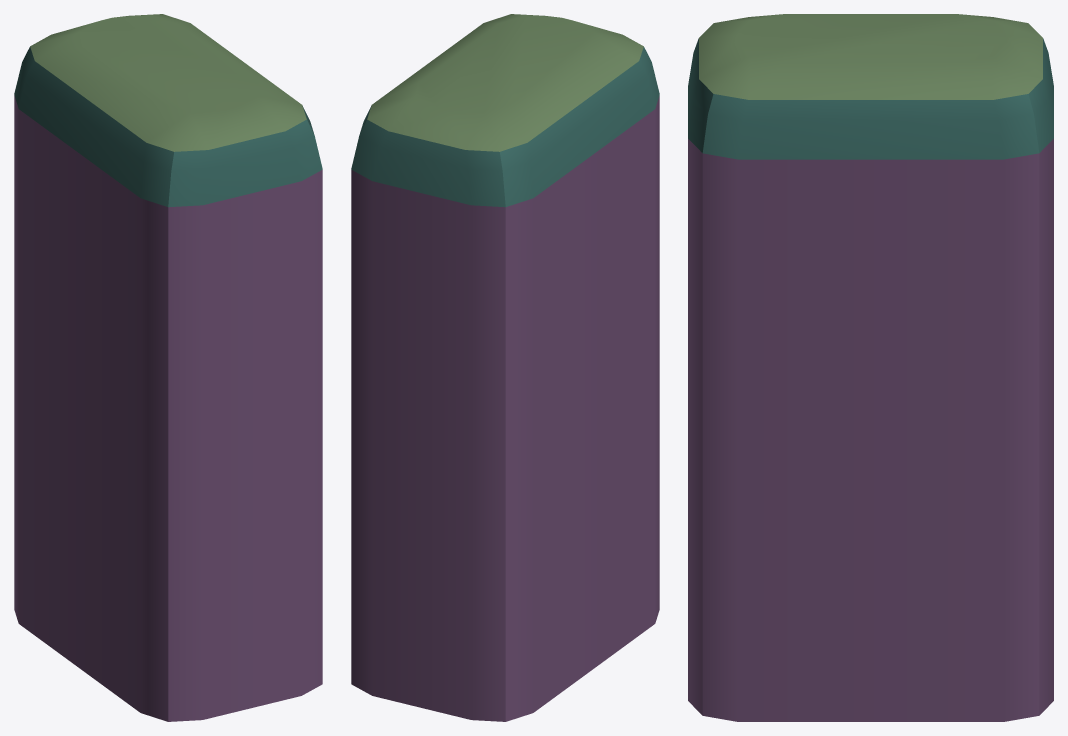
Rendered from Waterfall_PLatfomr.fbx.
The picture shows the model from 3 angles, left to right: view 1: azimuth 30°, elevation 25°; view 2: azimuth 150°, elevation 25°; view 3: azimuth 270°, elevation 25°; orthographic projection. The views are drawn at different scales.
Parts seen in each view (by area): view 1: Waterfall_PLat, Ground1, Wall1; view 2: Waterfall_PLat, Ground1, Wall1; view 3: Waterfall_PLat, Ground1, Wall1.
Part boxes in pixels (box(x1,y1,x2,y2)): Waterfall_PLat: box(14, 96, 322, 721); Ground1: box(30, 14, 306, 151); Wall1: box(14, 47, 322, 207); Waterfall_PLat: box(351, 96, 659, 721); Ground1: box(367, 14, 643, 151); Wall1: box(351, 47, 659, 207); Waterfall_PLat: box(688, 139, 1053, 721); Ground1: box(699, 14, 1042, 99); Wall1: box(688, 38, 1053, 159).
Bounding box in the file's own units: 42.29 × 132 × 69.01.
